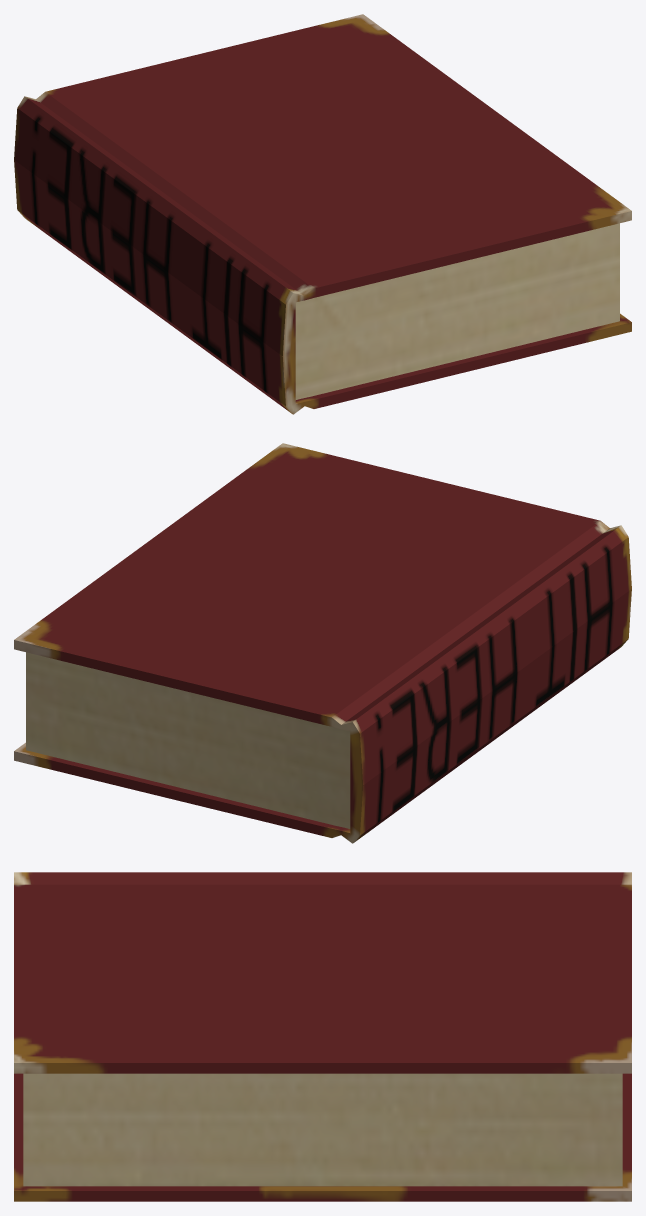
Rendered from LIBRO_HIT_HERE.glb.
The picture shows the model from 3 angles, top to bottom: view 1: azimuth 30°, elevation 25°; view 2: azimuth 150°, elevation 25°; view 3: azimuth 270°, elevation 25°; orthographic projection. The views are drawn at different scales.
Visible parts, largest first — view 1: LIBRO_1; view 2: LIBRO_1; view 3: LIBRO_1.
Part boxes in pixels (left/top/right/bottom): LIBRO_1: left=14, top=14, right=631, bottom=414; LIBRO_1: left=14, top=443, right=631, bottom=843; LIBRO_1: left=14, top=872, right=631, bottom=1201.
Bounding box in the file's own units: 0.3 × 0.1 × 0.4.
1 material, 1 textured.
